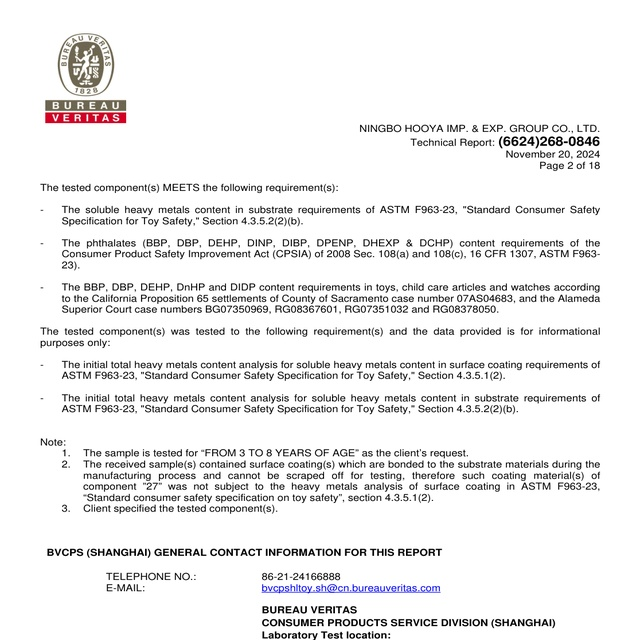bureau_veritas: (39, 29, 131, 132)
